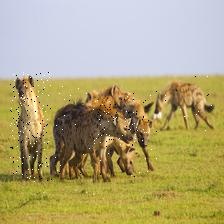hyena: (50, 83, 160, 182), (10, 71, 50, 182), (152, 76, 220, 133), (92, 100, 147, 148)
